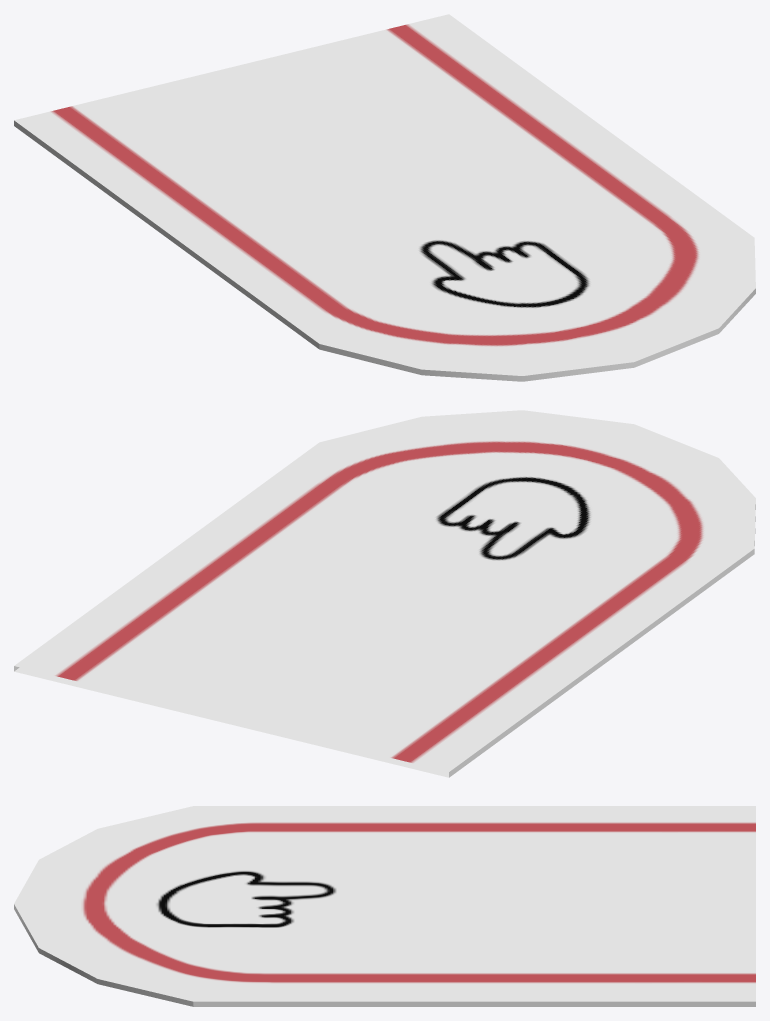
File: trash(red).FBX
The picture shows the model from 3 angles, top to bottom: view 1: azimuth 30°, elevation 25°; view 2: azimuth 150°, elevation 25°; view 3: azimuth 270°, elevation 25°; orthographic projection. The views are drawn at different scales.
Parts seen in each view (by area): view 1: Turn009; view 2: Turn009; view 3: Turn009.
Part boxes in pixels (<box>): Turn009: <box>14,14,755,381</box>; Turn009: <box>14,410,755,777</box>; Turn009: <box>14,806,755,1006</box>.
Bounding box in the file's own units: 80 × 1 × 128.
